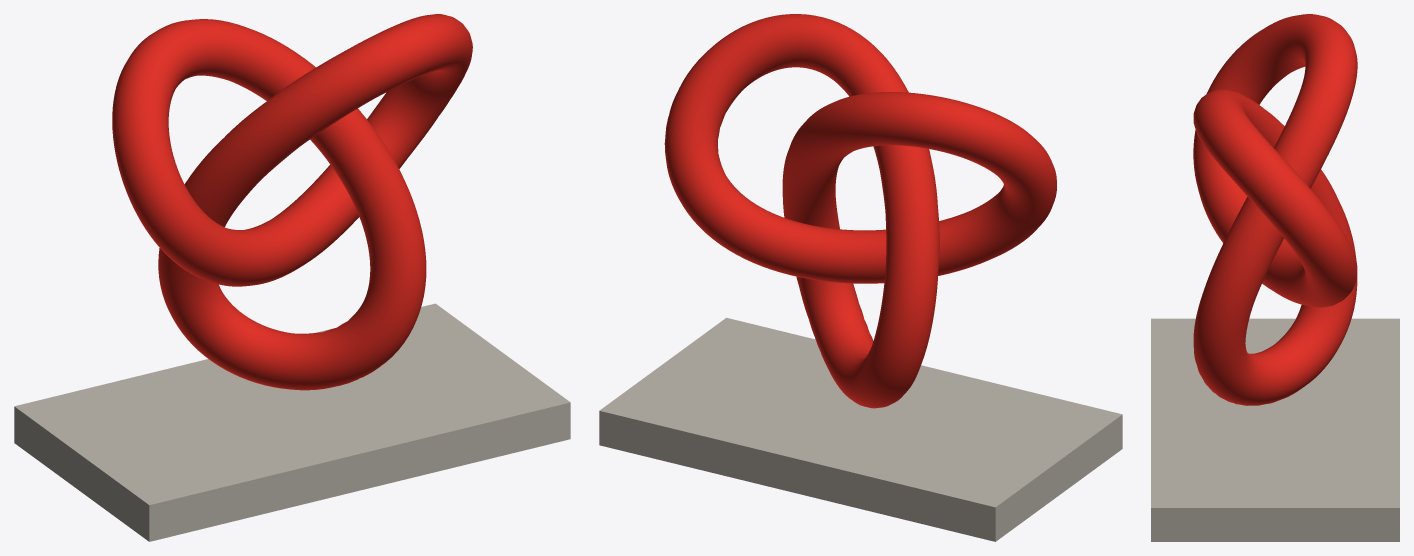
The model's file is knot.obj.
3 views of the same model, side by side, from view 1: azimuth 30°, elevation 25°; view 2: azimuth 150°, elevation 25°; view 3: azimuth 270°, elevation 25° (orthographic). The views are drawn at different scales.
Parts seen in each view (by area): view 1: knot, plinth; view 2: knot, plinth; view 3: knot, plinth.
Boxes of the visible parts, <box> form: knot: <box>112,14,472,390</box>; plinth: <box>14,303,570,541</box>; knot: <box>664,14,1056,408</box>; plinth: <box>599,317,1122,541</box>; knot: <box>1193,14,1357,405</box>; plinth: <box>1151,318,1399,541</box>.
Bounding box in the file's own units: 7.2 × 6.78 × 4.
